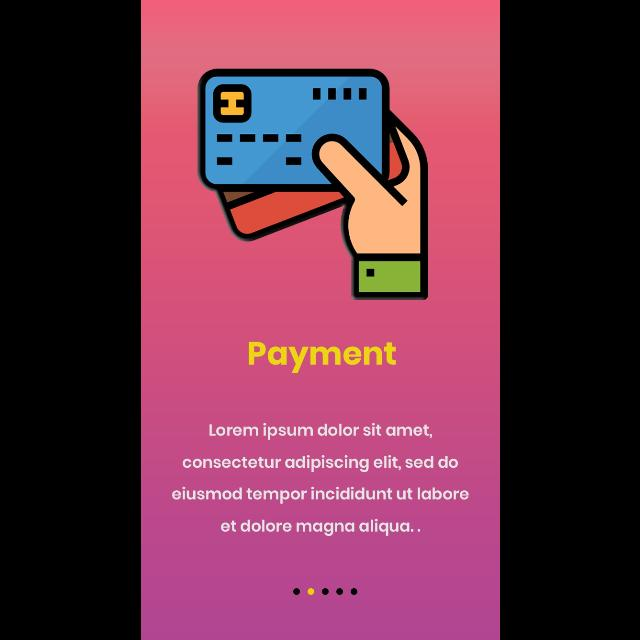image: (196, 67, 428, 300)
pageindicator: (292, 588, 358, 596)
text: (171, 423, 469, 537), (248, 342, 396, 374)
